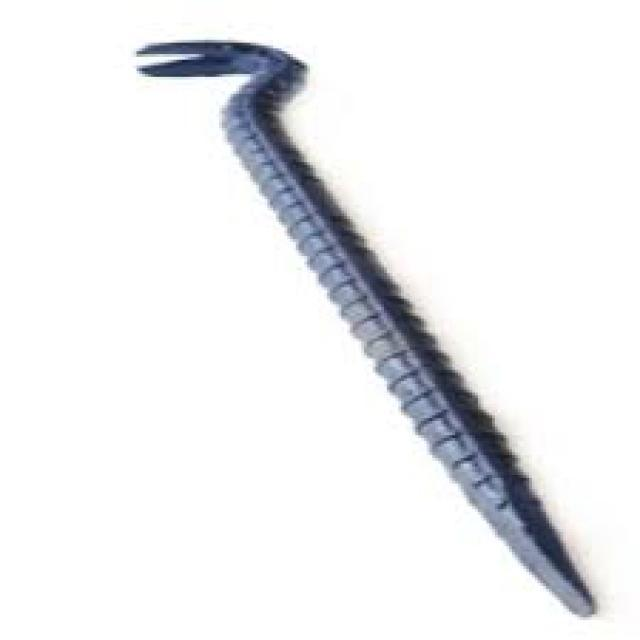Linggis: (114, 31, 600, 623)
